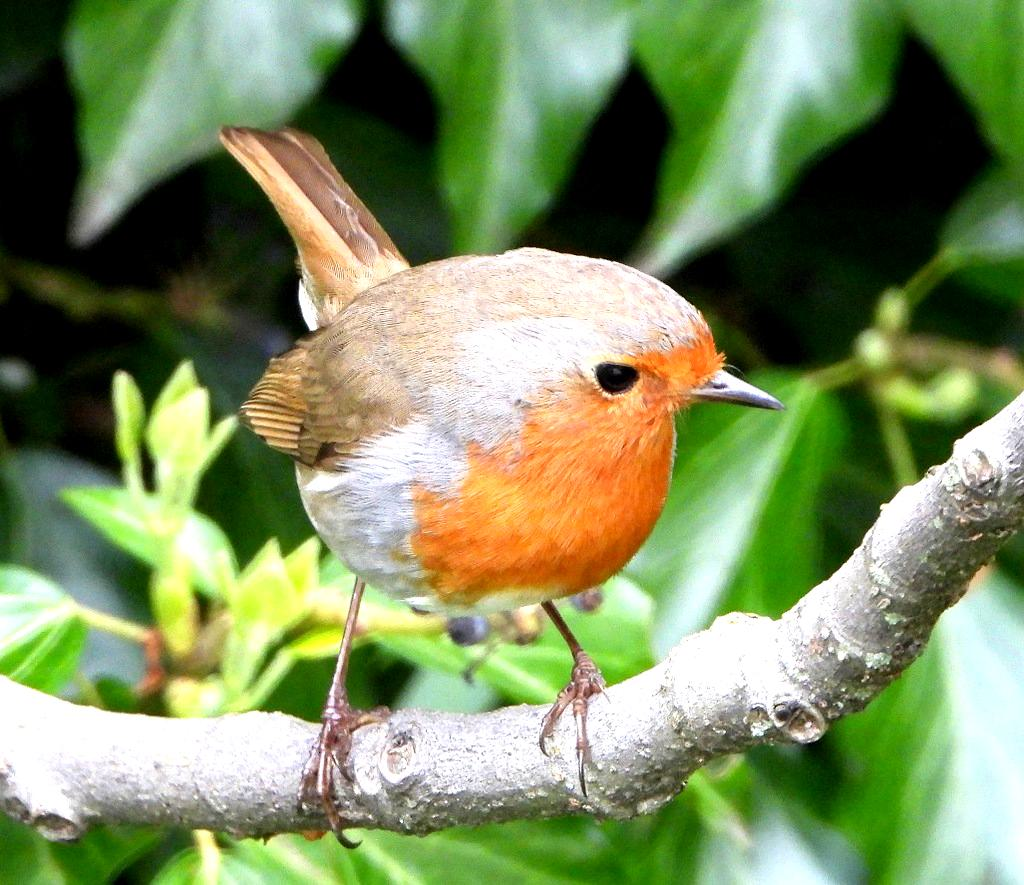ErithacusRubecula: (216, 126, 786, 850)
